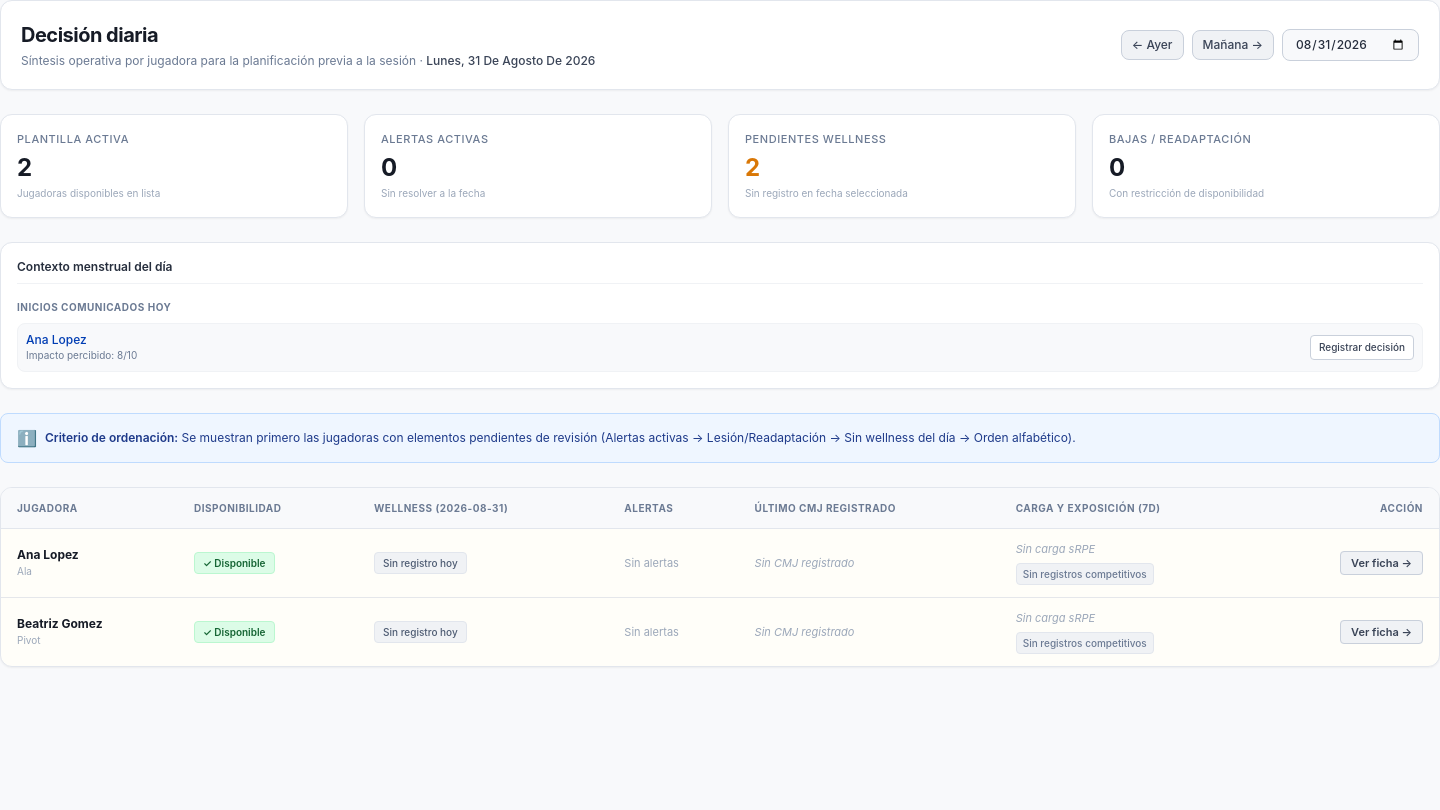
Test: DailyDecisionPage Component (T-05-VISTA-DECISION-DIARIA & T-05-R) › Fase 4B. Modal de decisión se abre y muestra datos correctos (solo lectura)
Step 1. Click the button "Registrar decisión" → (1362,347), box [1310, 334, 1414, 360]
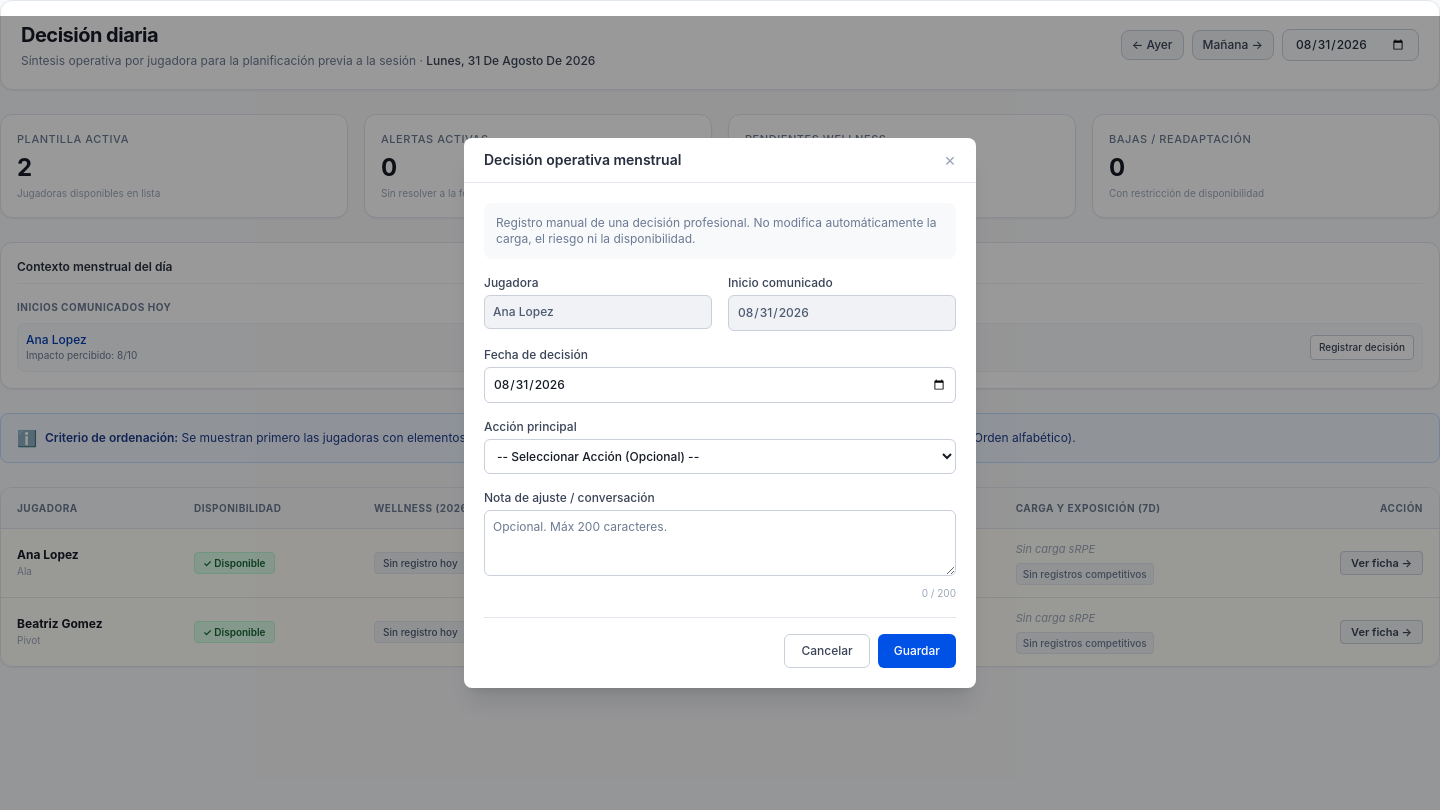
Check: the heading "Decisión operativa menstrual" is shown, box [484, 150, 681, 170]
Check: the dropdown is shown, box [484, 439, 956, 474]
